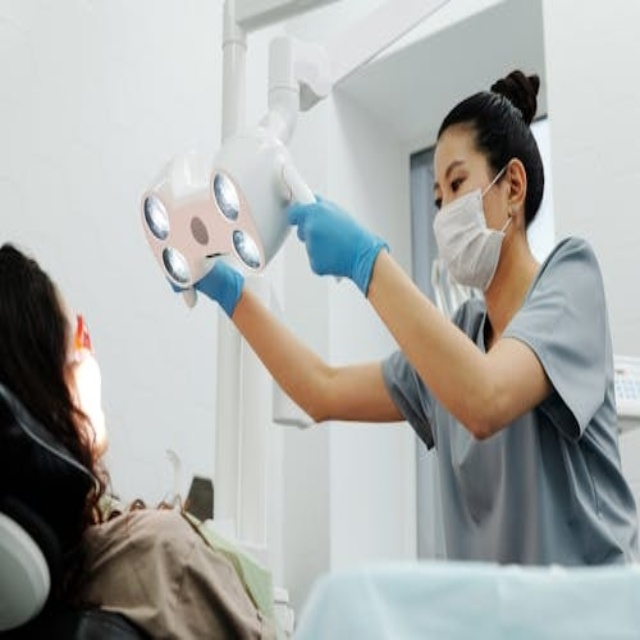Guantes: (283, 190, 388, 300), (160, 256, 262, 340)
Mascara: (433, 165, 512, 294), (64, 315, 107, 459)
Sin_gafas: (424, 148, 475, 211)
